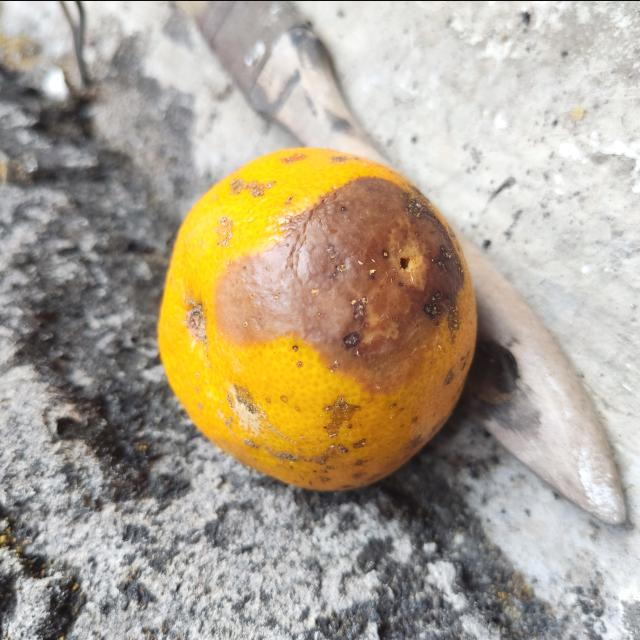orange: (156, 147, 478, 490)
